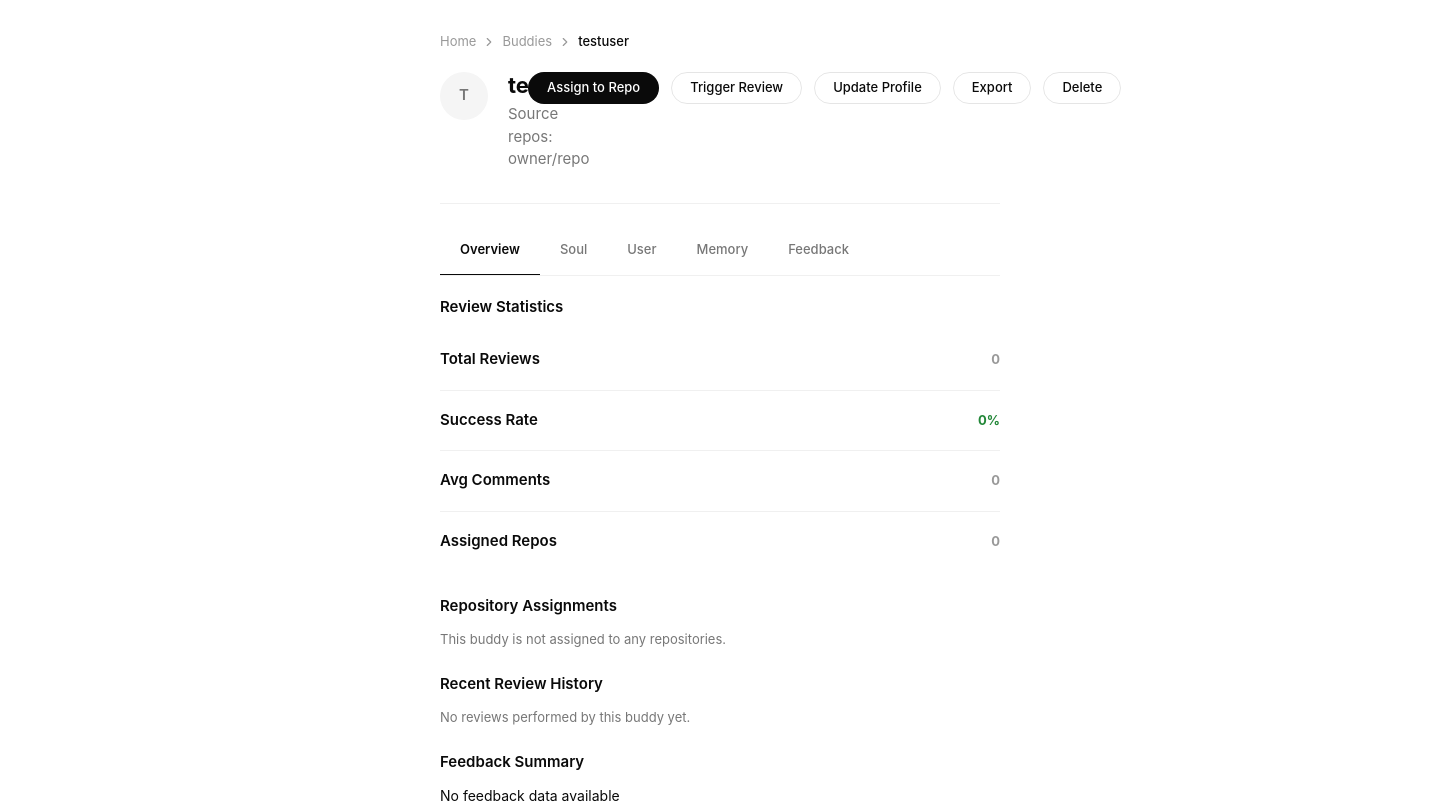
it: BuddyDetailPage › opens assign dialog when Assign to Repo clicked
Click the button "Assign to Repo" at (594, 88), box [528, 72, 659, 104]
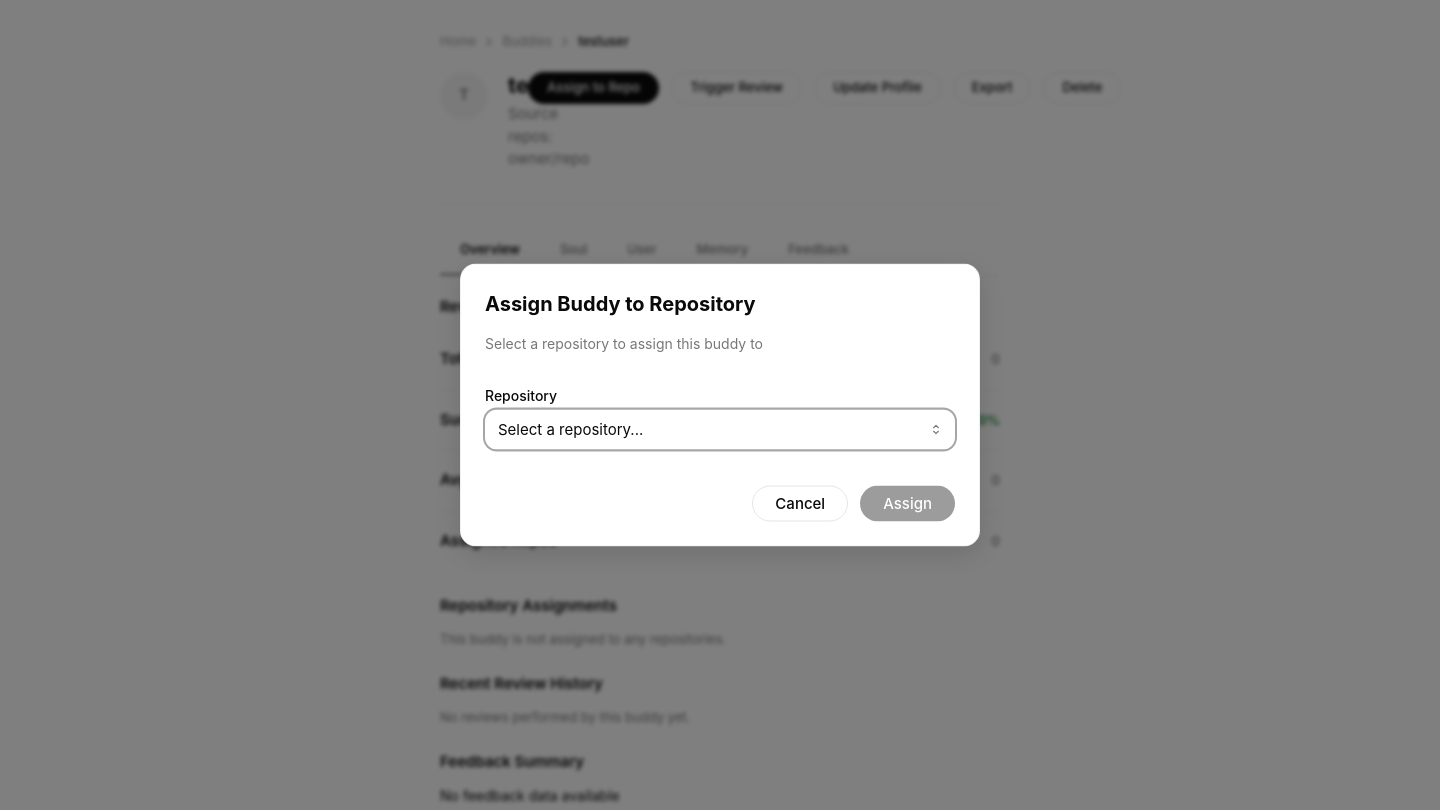
Now the text "Assign Buddy to Repository" is shown, box [485, 292, 756, 316]
